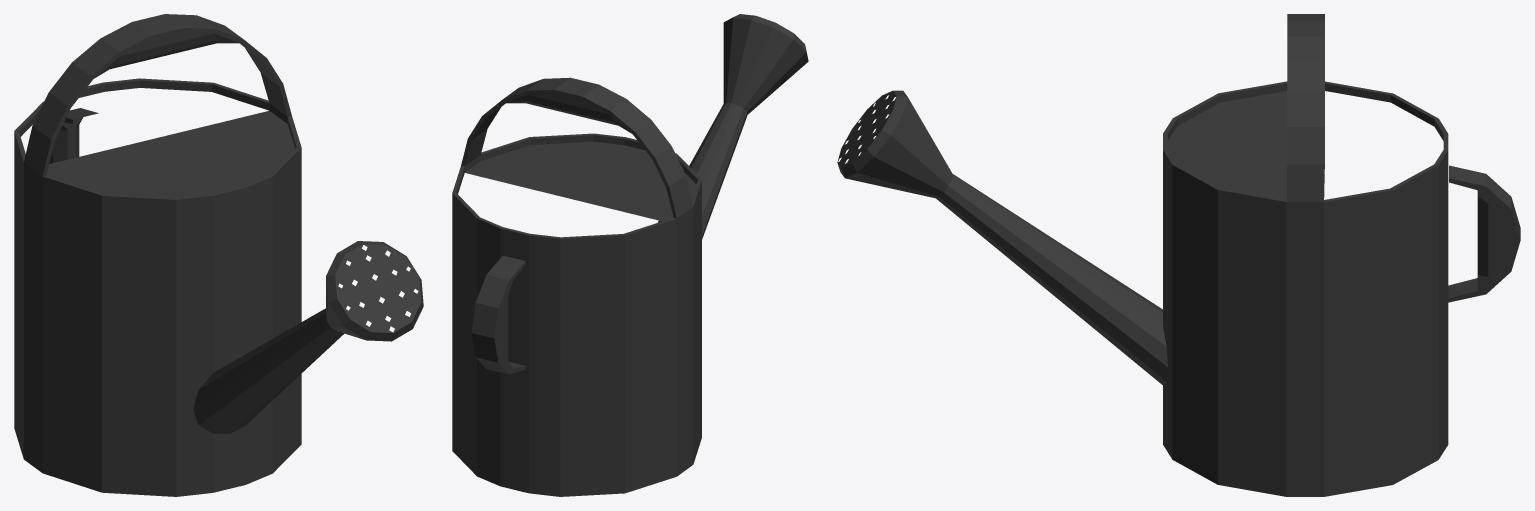
File: wateringcan.glb
3 renders of one model, left to right at view 1: azimuth 30°, elevation 25°; view 2: azimuth 150°, elevation 25°; view 3: azimuth 270°, elevation 25°, orthographic. The views are drawn at different scales.
Visible parts, largest first — view 1: watering_can; view 2: watering_can; view 3: watering_can.
Part boxes in pixels (x1=…): watering_can: x1=14, y1=14, x2=423, y2=496; watering_can: x1=452, y1=14, x2=808, y2=496; watering_can: x1=837, y1=14, x2=1520, y2=496.
Bounding box in the file's own units: 0.1631 × 0.2573 × 0.3902.
1 material, 1 textured.
